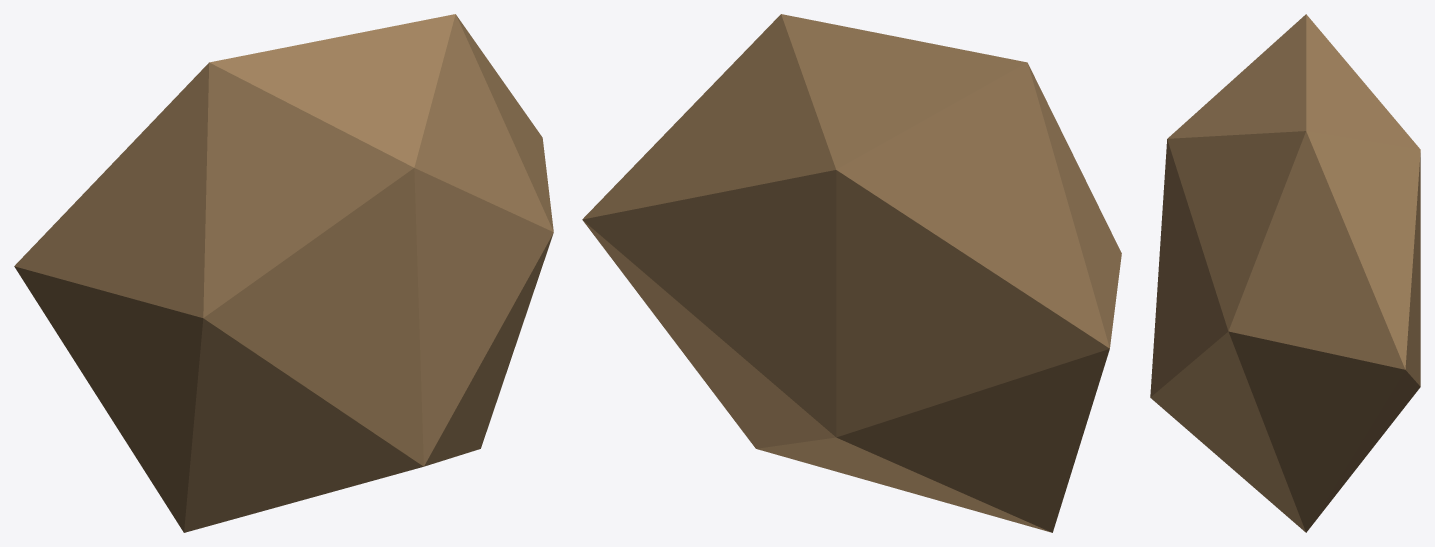
The model's file is rock_c.glb.
3 renders of one model, left to right at view 1: azimuth 30°, elevation 25°; view 2: azimuth 150°, elevation 25°; view 3: azimuth 270°, elevation 25°, orthographic. The views are drawn at different scales.
Parts seen in each view (by area): view 1: RockCMesh; view 2: RockCMesh; view 3: RockCMesh.
Boxes of the visible parts, box(x1,y1,x2,y2) form: RockCMesh: box(14, 14, 553, 532); RockCMesh: box(582, 14, 1121, 532); RockCMesh: box(1150, 14, 1420, 532).
Size of the model in its own units: 2 by 1.68 by 1.
